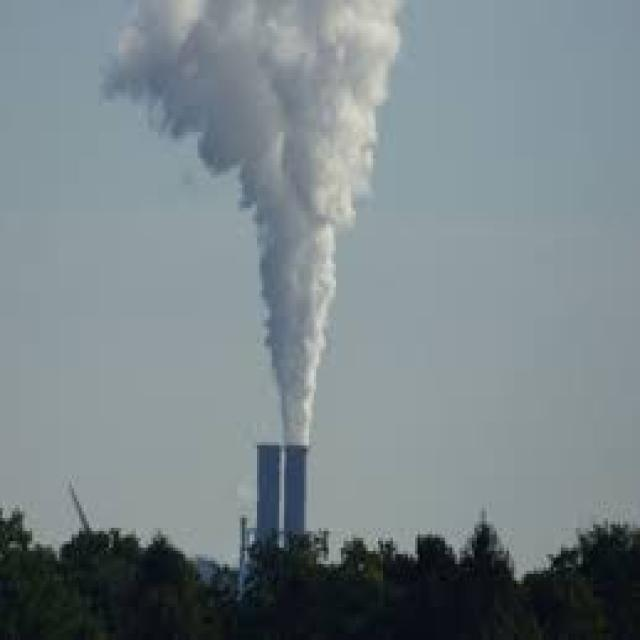Smoke: (96, 0, 404, 448)
